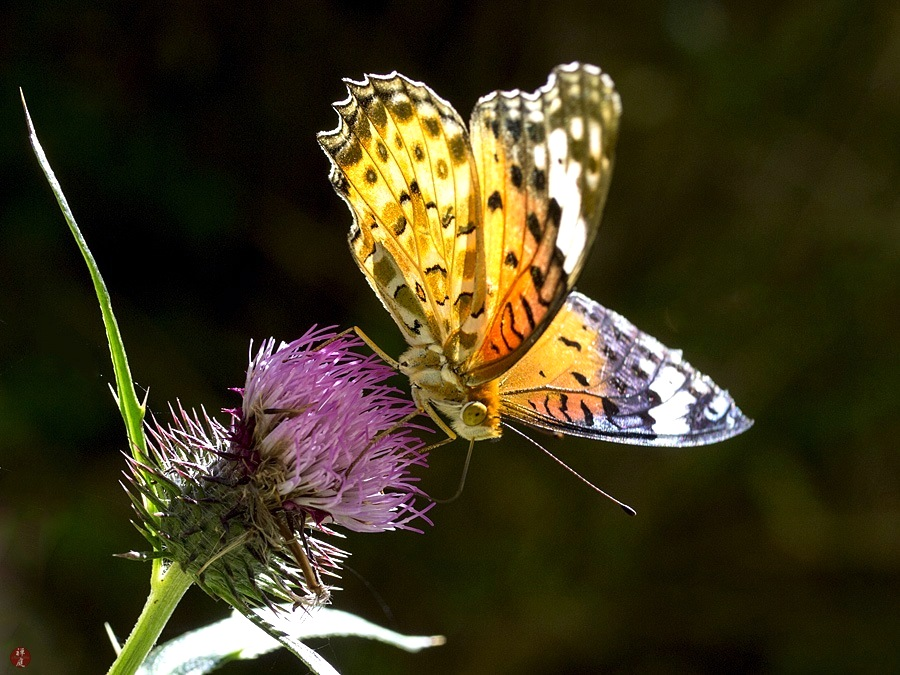Argyreus hyperbius: (308, 56, 759, 517)
butterfly: (310, 58, 761, 519)
